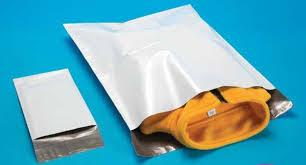Postal packaging: (58, 2, 297, 161), (3, 65, 108, 161)
